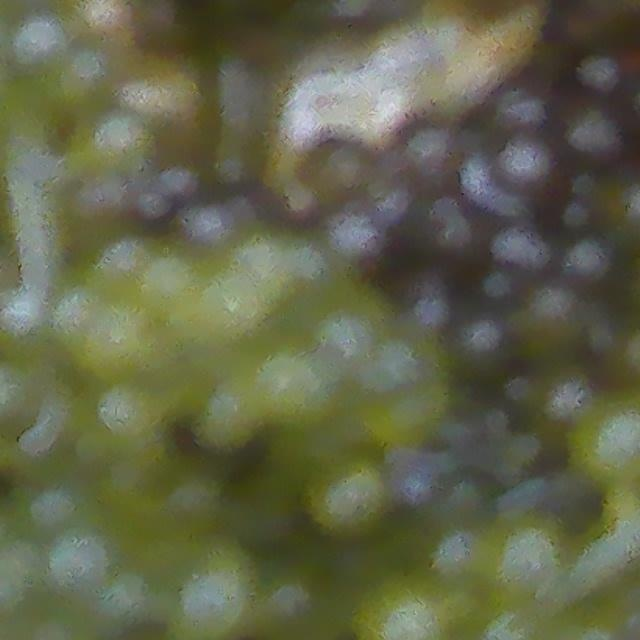SeaGrape: (160, 534, 268, 640), (305, 454, 393, 543), (350, 569, 459, 640), (566, 394, 640, 487), (42, 524, 118, 597), (94, 377, 168, 451), (403, 123, 463, 197), (448, 297, 497, 371), (502, 214, 550, 282), (476, 593, 543, 640), (11, 14, 66, 70), (574, 101, 625, 159), (332, 210, 388, 261), (504, 136, 548, 190), (425, 219, 476, 258), (323, 147, 369, 184), (506, 77, 541, 122)
